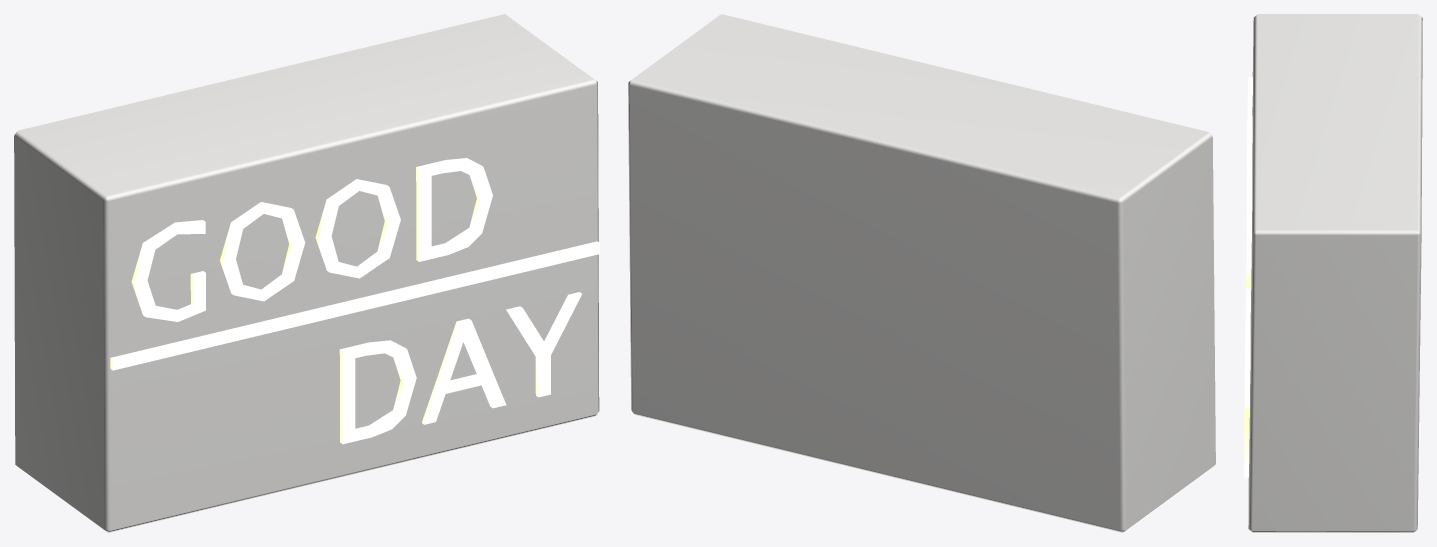
Rendered from Decoration_5.glb.
3 views of the same model, side by side, from view 1: azimuth 30°, elevation 25°; view 2: azimuth 150°, elevation 25°; view 3: azimuth 270°, elevation 25° (orthographic). The views are drawn at different scales.
Parts seen in each view (by area): view 1: Decoration_5; view 2: Decoration_5; view 3: Decoration_5.
Part boxes in pixels (bbox=[...]): Decoration_5: bbox=[14, 14, 599, 532]; Decoration_5: bbox=[628, 14, 1215, 532]; Decoration_5: bbox=[1244, 14, 1422, 532].
Size of the model in its own units: 0.3893 by 0.2533 by 0.1345.
Materials: 2 (1 with a texture image).
